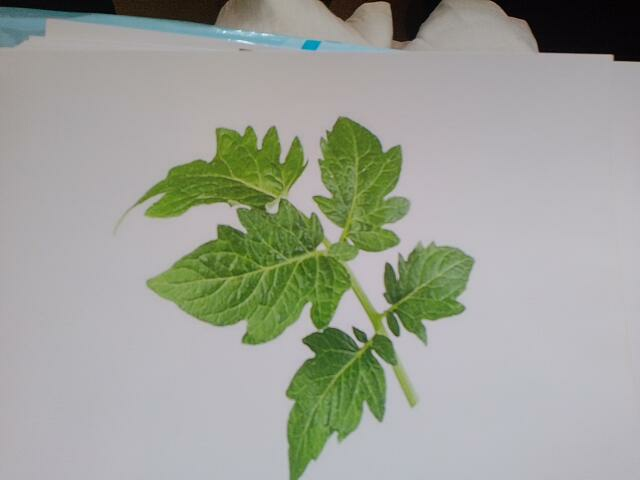Grape_Blight_Leaf: (253, 78, 527, 354)
